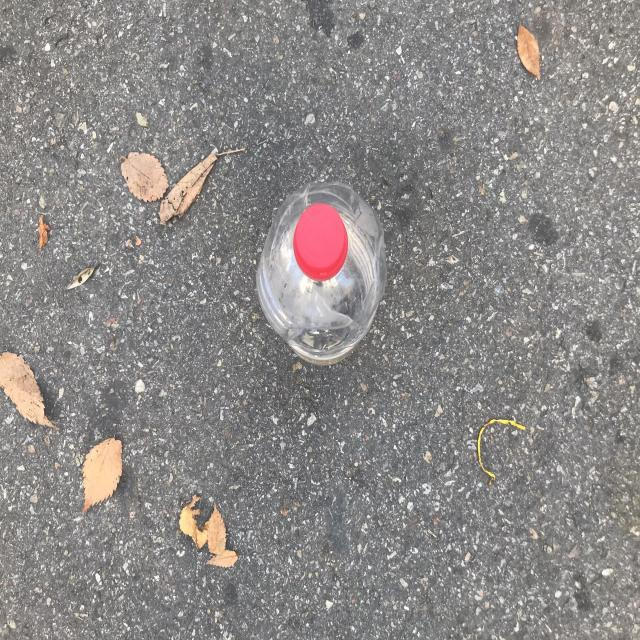plastic: (256, 182, 387, 364)
